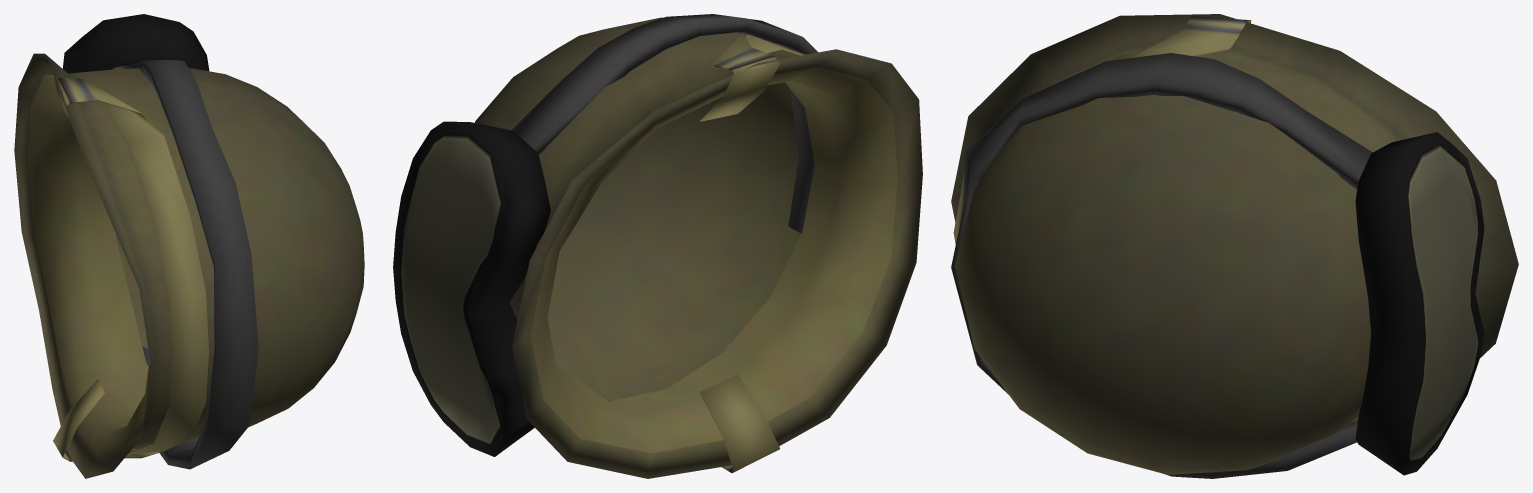
Rendered from M1HelmetStraplessGoggles.fbx.
The picture shows the model from 3 angles, left to right: view 1: azimuth 30°, elevation 25°; view 2: azimuth 150°, elevation 25°; view 3: azimuth 270°, elevation 25°; orthographic projection. The views are drawn at different scales.
Parts seen in each view (by area): view 1: Cube.001; view 2: Cube.001; view 3: Cube.001.
Part boxes in pixels (bbox=[...]): Cube.001: bbox=[14, 14, 364, 478]; Cube.001: bbox=[393, 14, 922, 478]; Cube.001: bbox=[951, 14, 1518, 478].
Size of the model in its own units: 0.1362 by 0.1592 by 0.1992.
